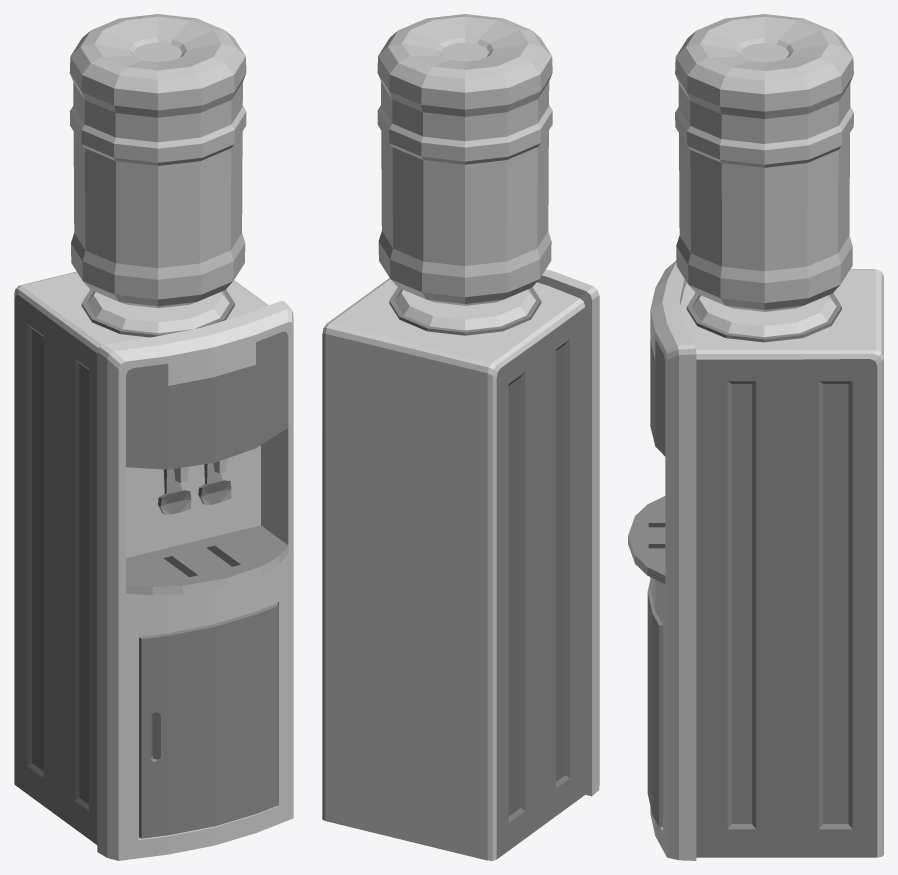
File: Int_TechWaterCooler02.fbx
3 renders of one model, left to right at view 1: azimuth 30°, elevation 25°; view 2: azimuth 150°, elevation 25°; view 3: azimuth 270°, elevation 25°, orthographic. The views are drawn at different scales.
Visible parts, largest first — view 1: Int_TechWaterCooler02; view 2: Int_TechWaterCooler02; view 3: Int_TechWaterCooler02.
Boxes of the visible parts, x1=… form: Int_TechWaterCooler02: x1=14, y1=14, x2=293, y2=860; Int_TechWaterCooler02: x1=322, y1=14, x2=599, y2=860; Int_TechWaterCooler02: x1=628, y1=14, x2=883, y2=860.
Size of what is drawn, in the model's own units: 51.71 by 59.99 by 199.
